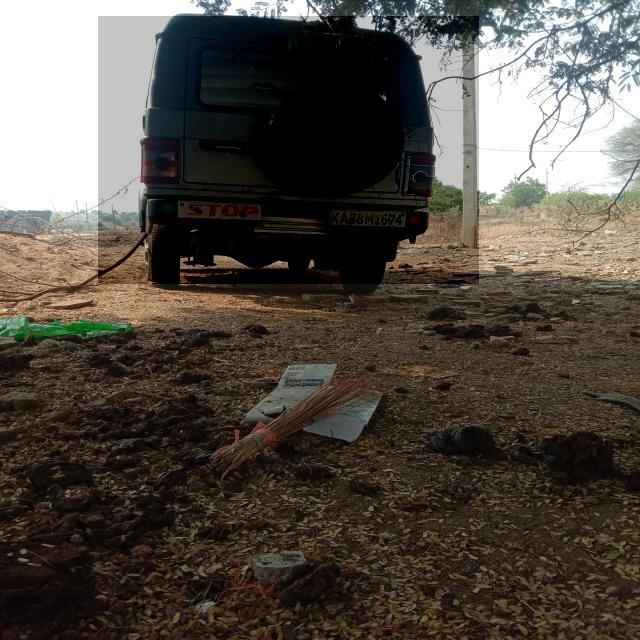Car: (98, 16, 479, 284)
